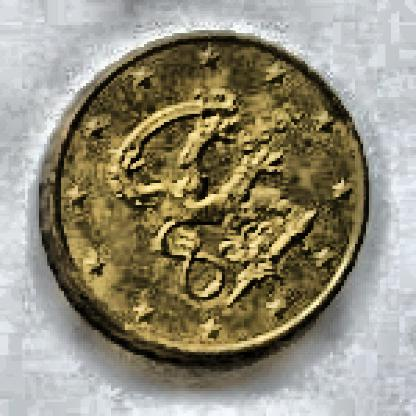coin: (40, 30, 371, 366)
